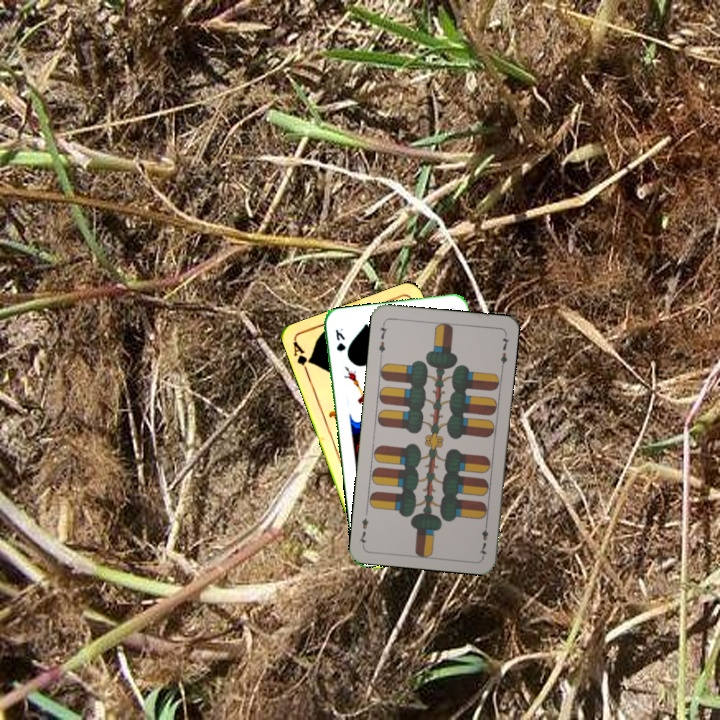E7: (374, 319, 390, 359), (475, 518, 491, 558)
GA: (289, 338, 314, 377)
GK: (331, 324, 348, 356)
